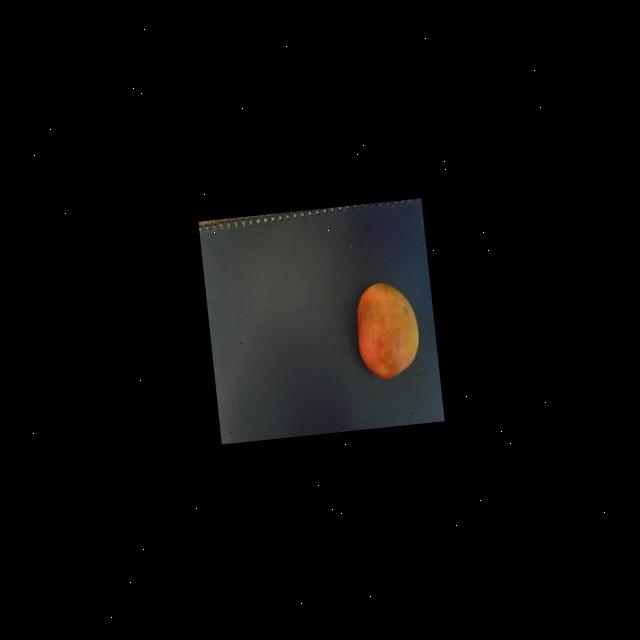Mango: (350, 277, 422, 380)
